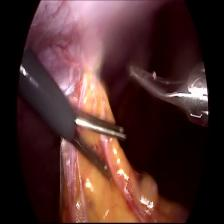Grasper: (73, 106, 129, 184)
Scissors: (128, 60, 209, 124)
